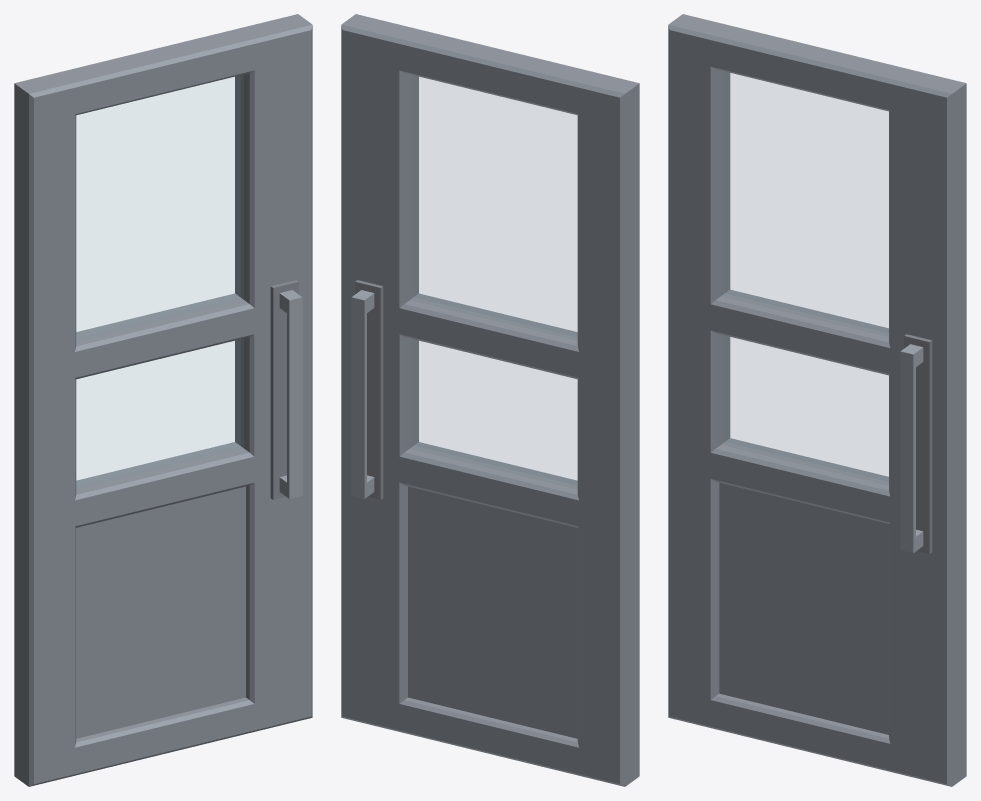
Rendered from SM_Buildings_Hospital_01_Door_1_L.fbx.
The picture shows the model from 3 angles, left to right: view 1: azimuth 30°, elevation 25°; view 2: azimuth 150°, elevation 25°; view 3: azimuth 330°, elevation 25°; orthographic projection.
Visible parts, largest first — view 1: SM_Buildings_Hospital_01_Door_1_L; view 2: SM_Buildings_Hospital_01_Door_1_L; view 3: SM_Buildings_Hospital_01_Door_1_L.
Part boxes in pixels (left/top/right/bottom): SM_Buildings_Hospital_01_Door_1_L: left=14, top=14, right=312, bottom=786; SM_Buildings_Hospital_01_Door_1_L: left=341, top=14, right=639, bottom=786; SM_Buildings_Hospital_01_Door_1_L: left=668, top=14, right=966, bottom=786.
Size of the model in its own units: 0.9 by 2.1 by 0.2366.
